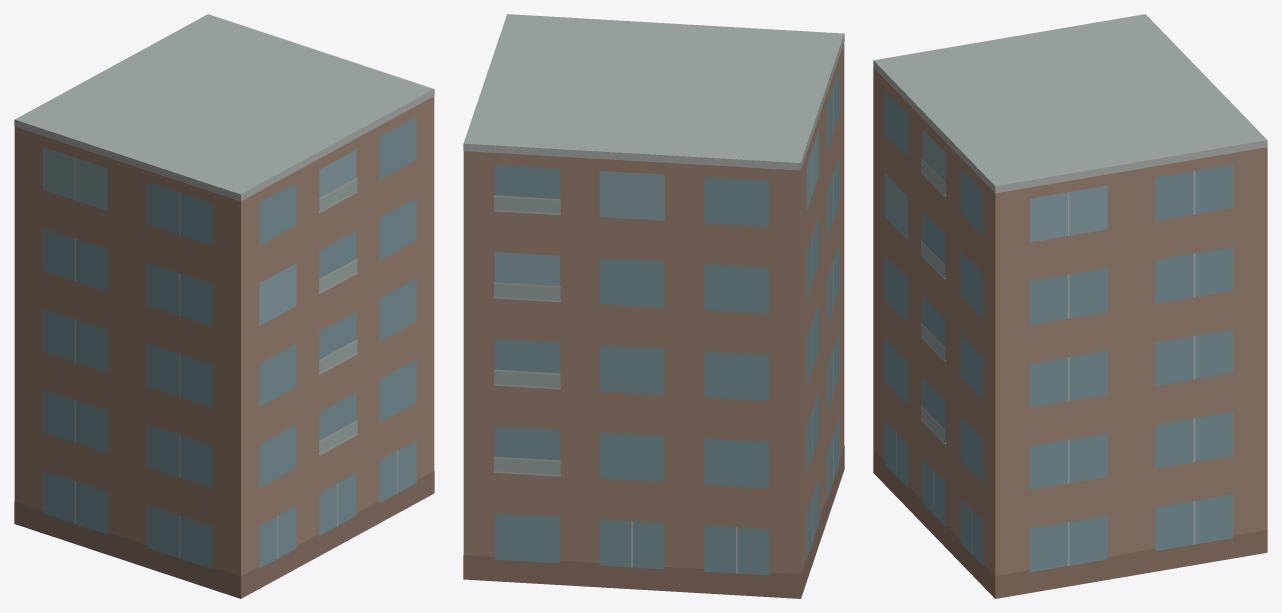
The model's file is survey-upis-32922618.glb.
3 views of the same model, side by side, from view 1: azimuth 30°, elevation 25°; view 2: azimuth 150°, elevation 25°; view 3: azimuth 270°, elevation 25° (orthographic). The views are drawn at different scales.
Visible parts, largest first — view 1: survey-upis-32922618.tmp; view 2: survey-upis-32922618.tmp; view 3: survey-upis-32922618.tmp.
Part boxes in pixels (<box>): survey-upis-32922618.tmp: <box>14,14,434,598</box>; survey-upis-32922618.tmp: <box>463,14,844,598</box>; survey-upis-32922618.tmp: <box>873,14,1267,598</box>.
Bounding box in the file's own units: 12.82 × 14.3 × 12.39.
